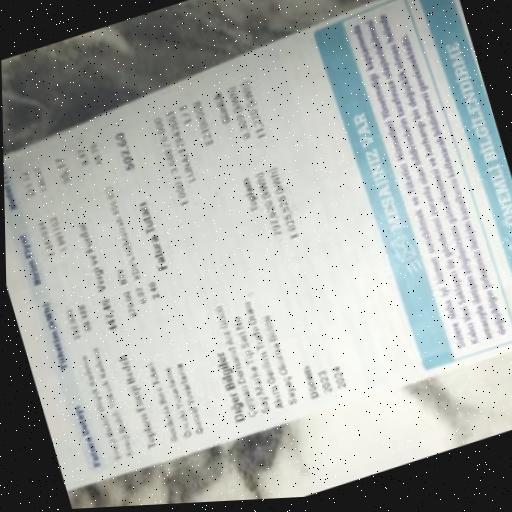electricity-bill: (4, 0, 512, 491)
